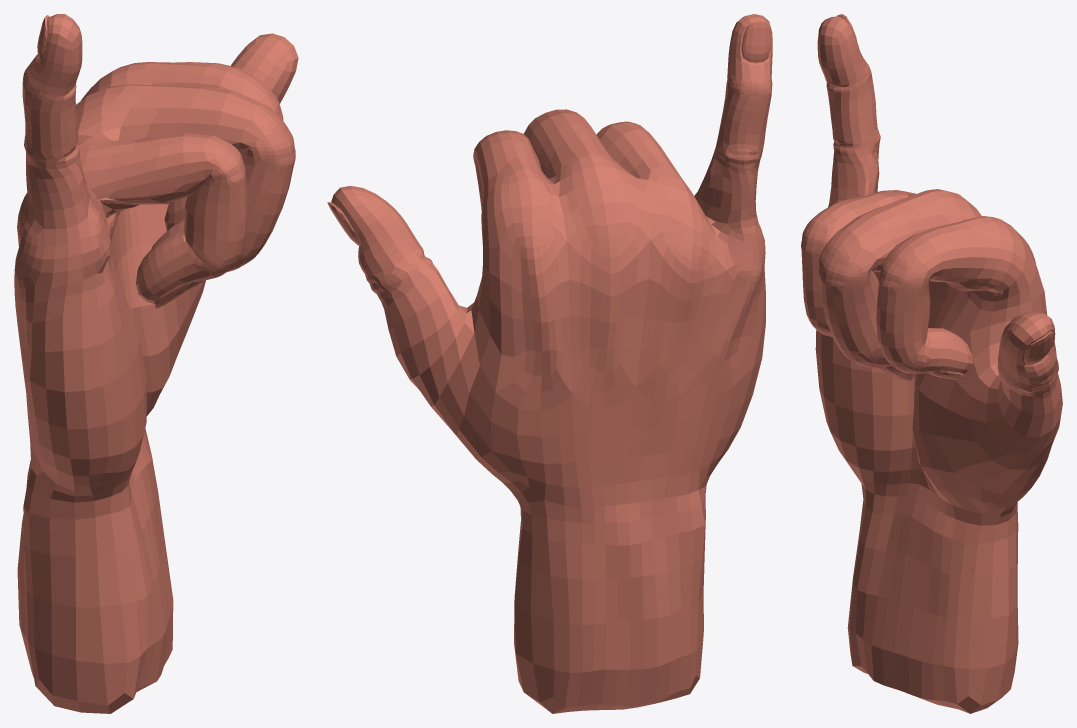
Rendered from yahbig.glb.
The picture shows the model from 3 angles, left to right: view 1: azimuth 30°, elevation 25°; view 2: azimuth 150°, elevation 25°; view 3: azimuth 270°, elevation 25°; orthographic projection. The views are drawn at different scales.
Visible parts, largest first — view 1: ZBrushPolyMesh3D; view 2: ZBrushPolyMesh3D; view 3: ZBrushPolyMesh3D.
Part boxes in pixels (<box>): ZBrushPolyMesh3D: <box>14,14,298,713</box>; ZBrushPolyMesh3D: <box>327,14,772,713</box>; ZBrushPolyMesh3D: <box>801,14,1062,713</box>.
Bounding box in the file's own units: 2.53 × 4.69 × 1.77.
